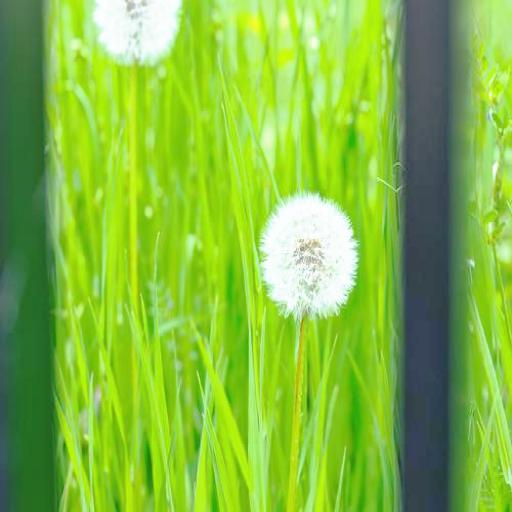dandelion: (259, 190, 358, 319)
